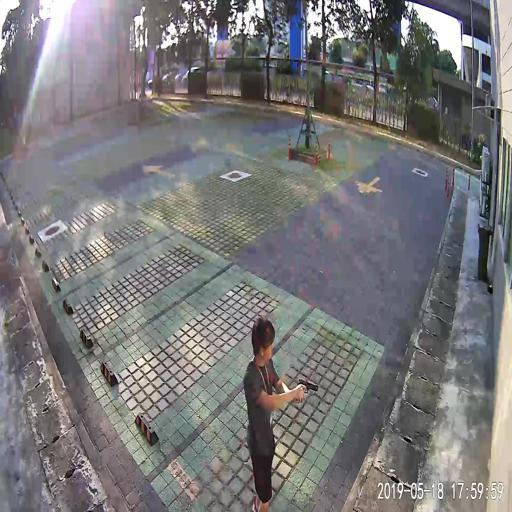Handgun: (296, 375, 317, 395)
